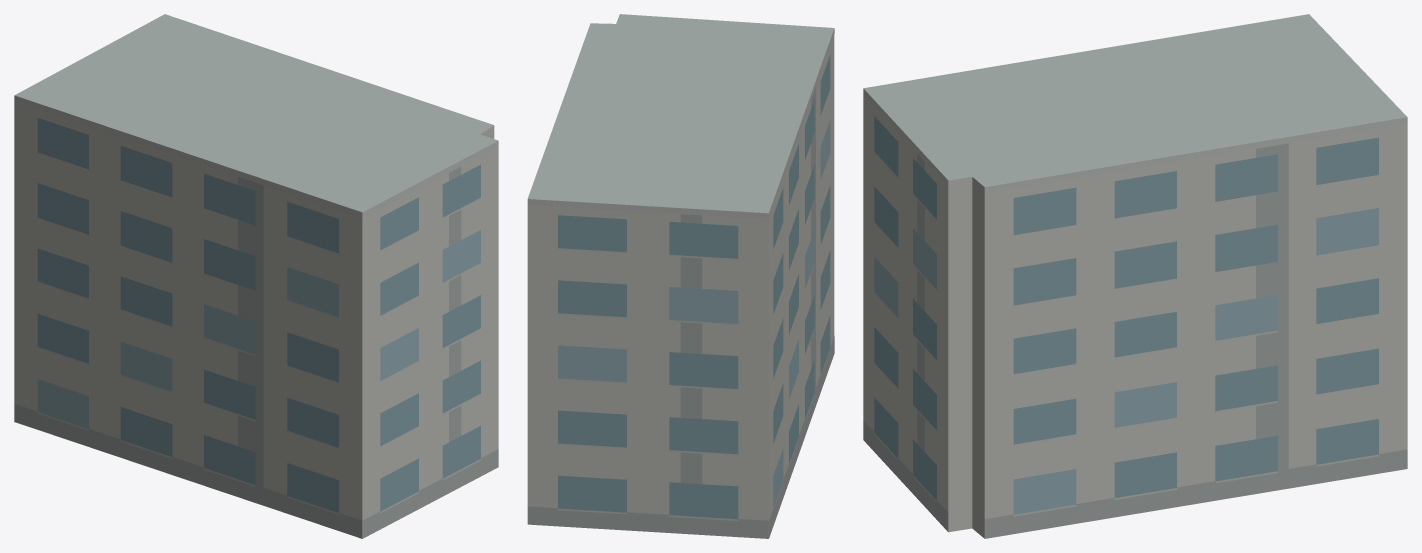
The model's file is survey-upis-32884284.glb.
The picture shows the model from 3 angles, left to right: view 1: azimuth 30°, elevation 25°; view 2: azimuth 150°, elevation 25°; view 3: azimuth 270°, elevation 25°; orthographic projection. The views are drawn at different scales.
Parts seen in each view (by area): view 1: survey-upis-32884284.tmp; view 2: survey-upis-32884284.tmp; view 3: survey-upis-32884284.tmp.
Part boxes in pixels (box(x1,y1,x2,y2)): survey-upis-32884284.tmp: box(14, 14, 498, 538); survey-upis-32884284.tmp: box(527, 14, 834, 538); survey-upis-32884284.tmp: box(863, 14, 1407, 538).
Bounding box in the file's own units: 13.95 × 13.2 × 18.52.
